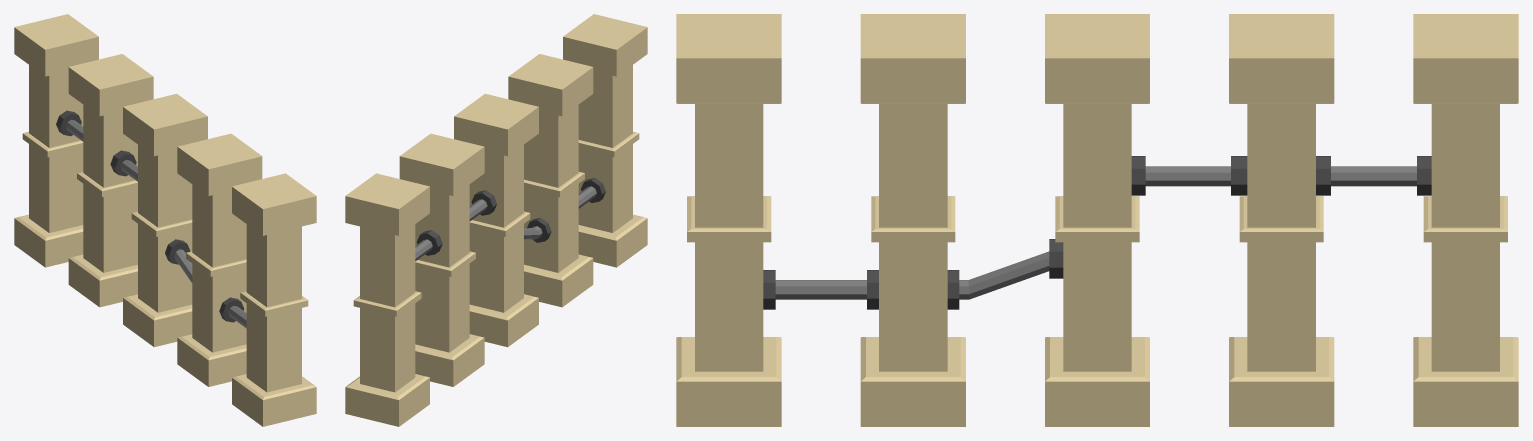
The model's file is ColumnSWithPipev1.fbx.
The picture shows the model from 3 angles, left to right: view 1: azimuth 30°, elevation 25°; view 2: azimuth 150°, elevation 25°; view 3: azimuth 270°, elevation 25°; orthographic projection. The views are drawn at different scales.
Visible parts, largest first — view 1: Column.009; view 2: Column.009; view 3: Column.009.
Boxes of the visible parts, <box> form: Column.009: <box>14,14,316,426</box>; Column.009: <box>345,14,647,426</box>; Column.009: <box>676,14,1518,426</box>.
Bounding box in the file's own units: 200 × 773 × 1600.
